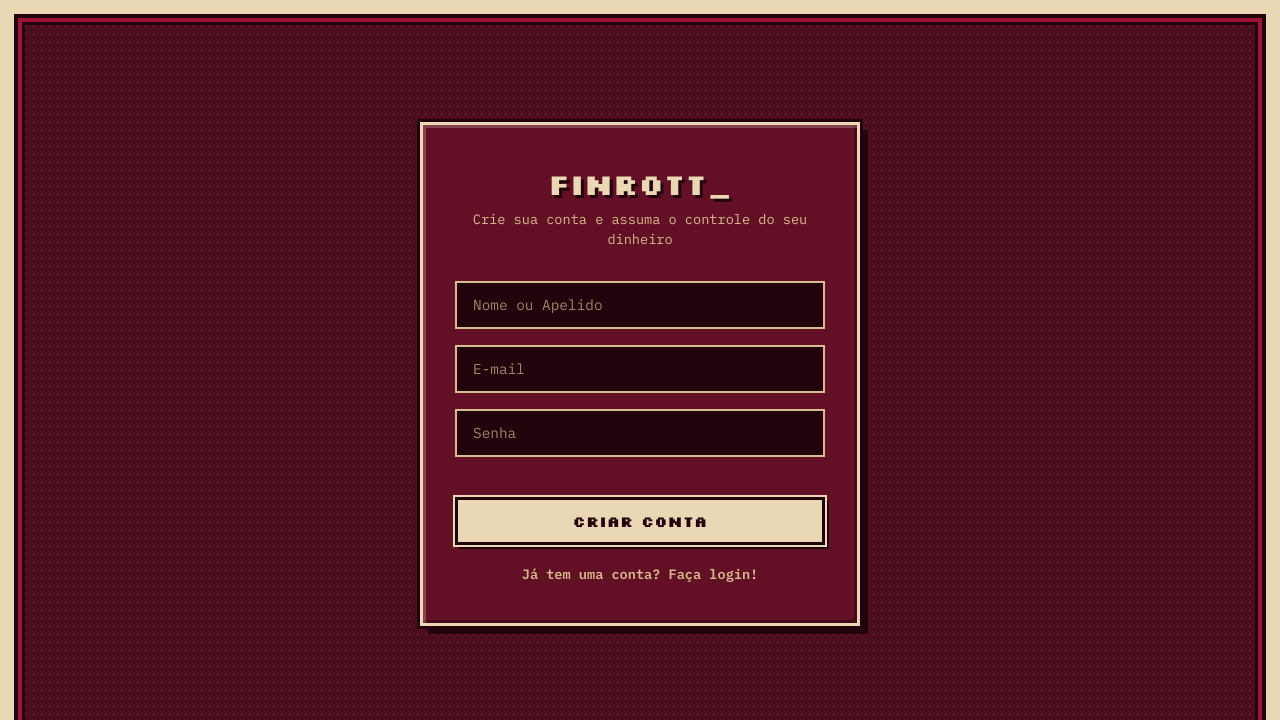
Test: Authentication Pages & Validations › SignUpPage › validates name minimum length of 2 characters
This screenshot has width=1280, height=720.
Type "A" into the field with placeholder "Nome ou Apelido".
click(640, 304); type("A")  # box [455,280,825,328]
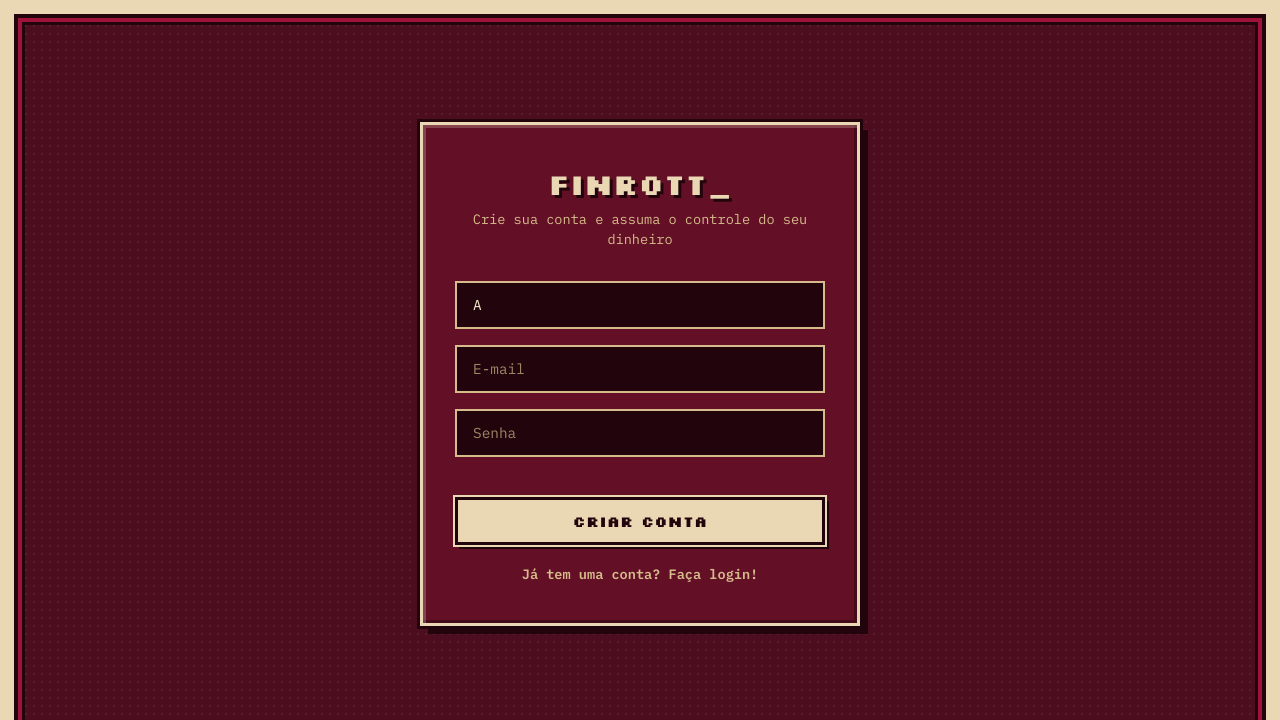
Type "teste@email.com" into the field with placeholder "E-mail".
click(640, 368); type("teste@email.com")  # box [455,344,825,392]
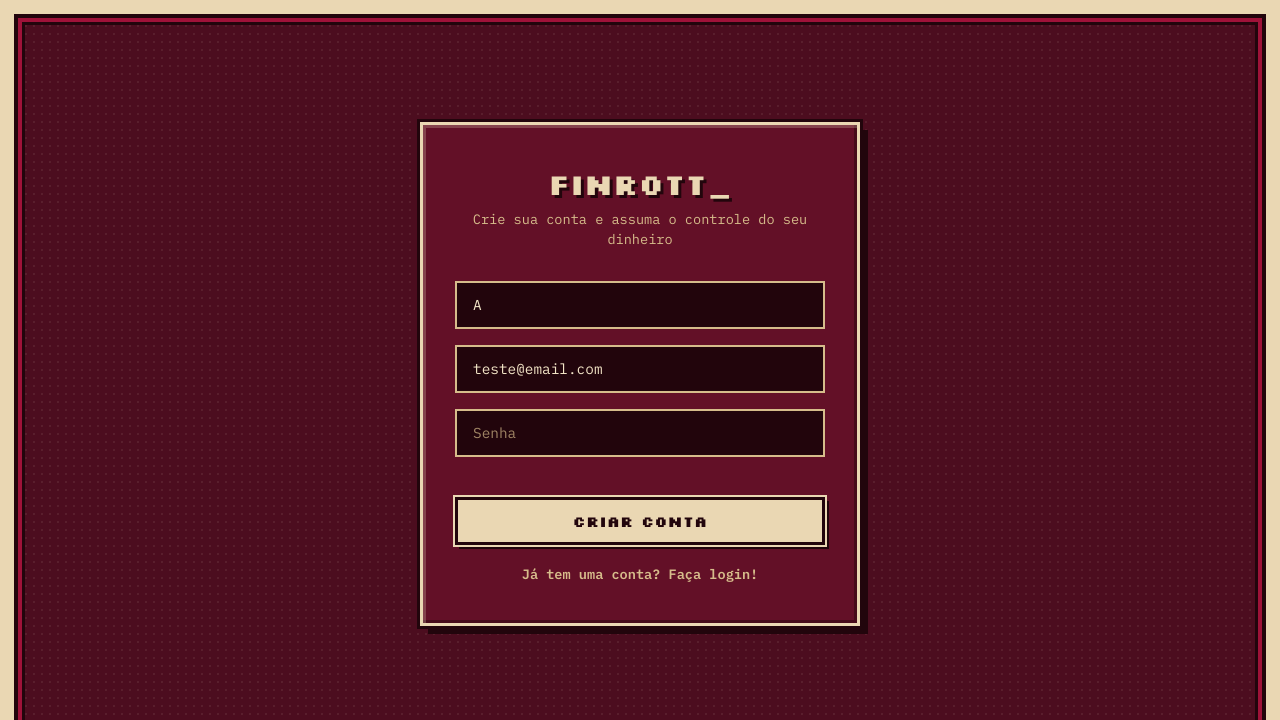
Type "123456" into the password field with placeholder "Senha".
click(640, 432); type("123456")  # box [455,408,825,456]
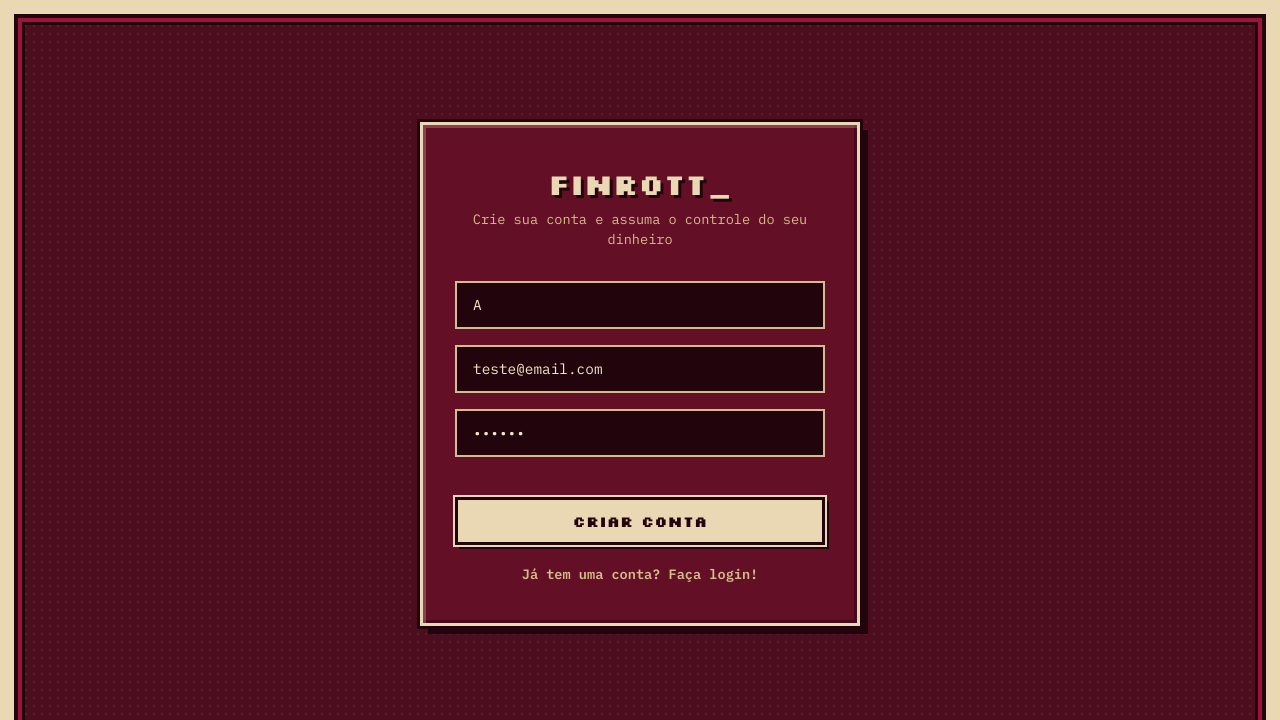
Click the button "Criar Conta".
click(640, 520)  # box [455,496,825,544]
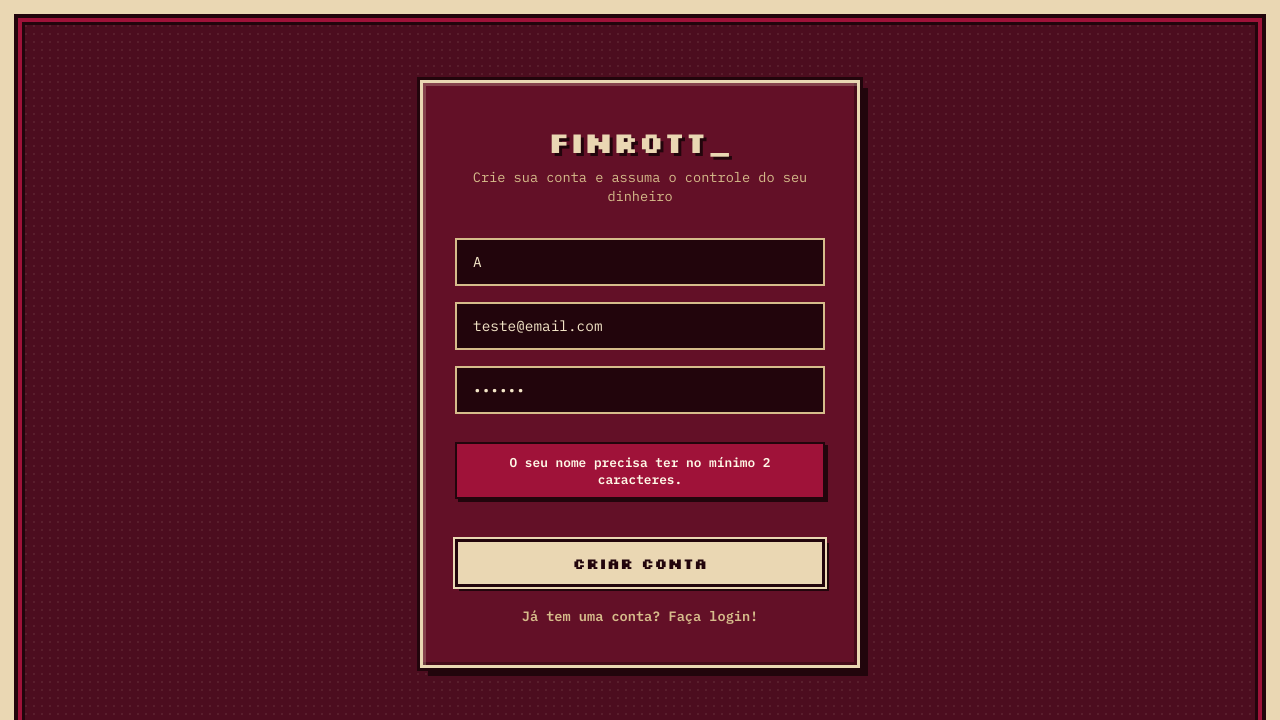
Check: the text "O seu nome precisa ter no mínimo 2 caracteres." is shown, box [455,442,825,499]
